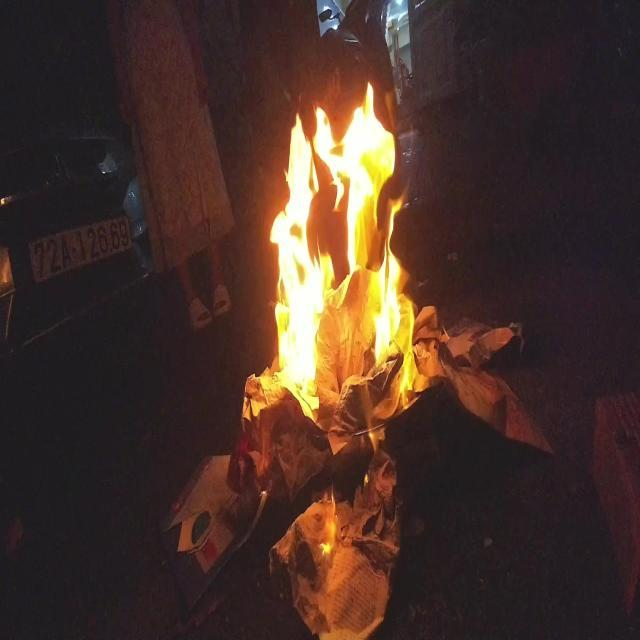Fire: (268, 81, 428, 489), (320, 487, 340, 562)
